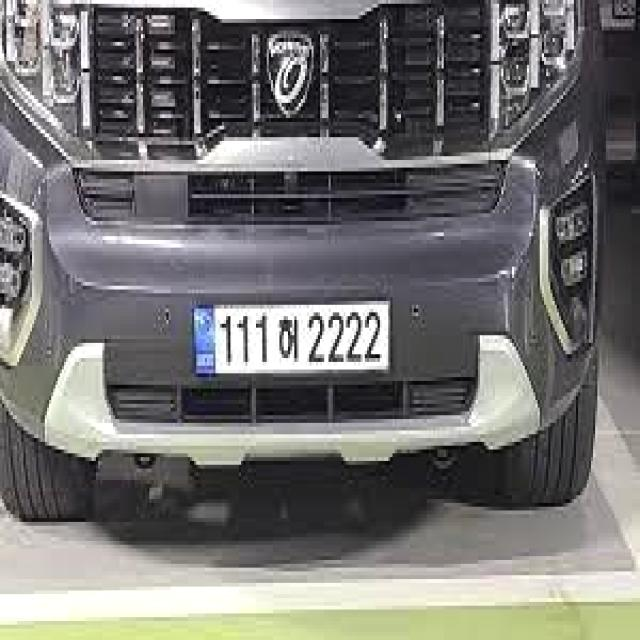illegal_plate: (194, 297, 396, 380)
